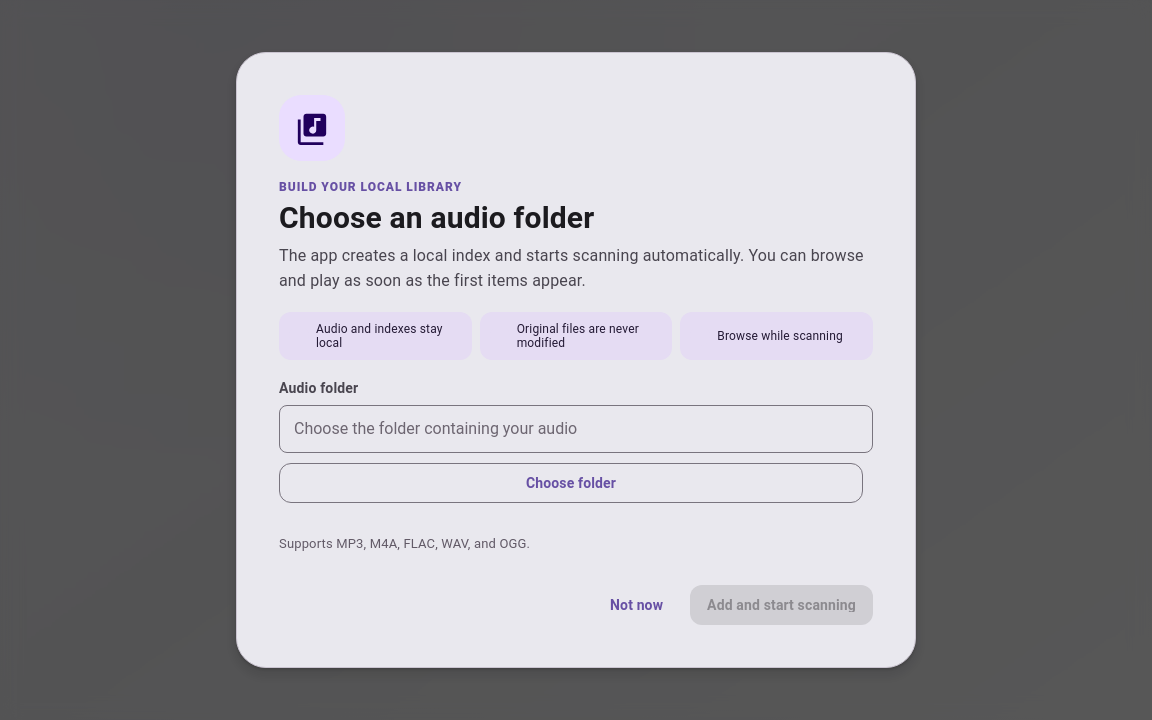
Test: OnboardingWizard › chooses a folder and starts an immediate background scan
Click the button "Choose folder" at (571, 483), box x1=279 y1=463 x2=863 y2=503
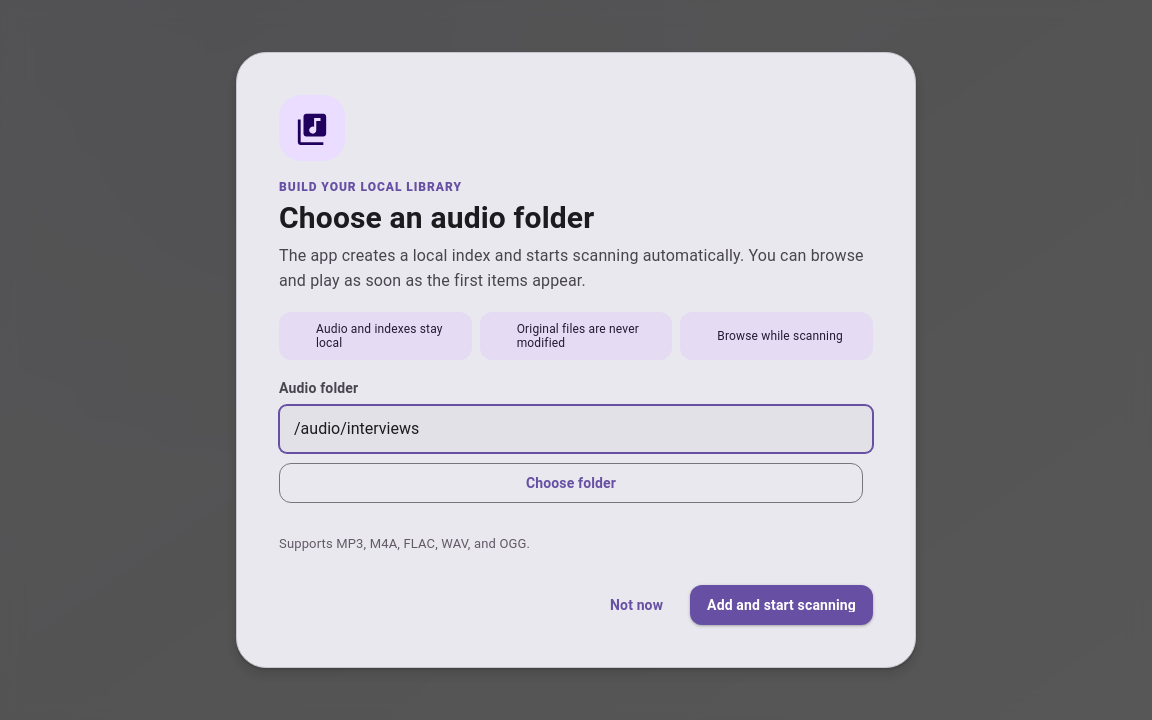
Expected: the field labelled "Audio folder" holds "/audio/interviews", x1=279 y1=405 x2=873 y2=453
Click the button "Add and start scanning" at (782, 606), box x1=690 y1=586 x2=873 y2=626
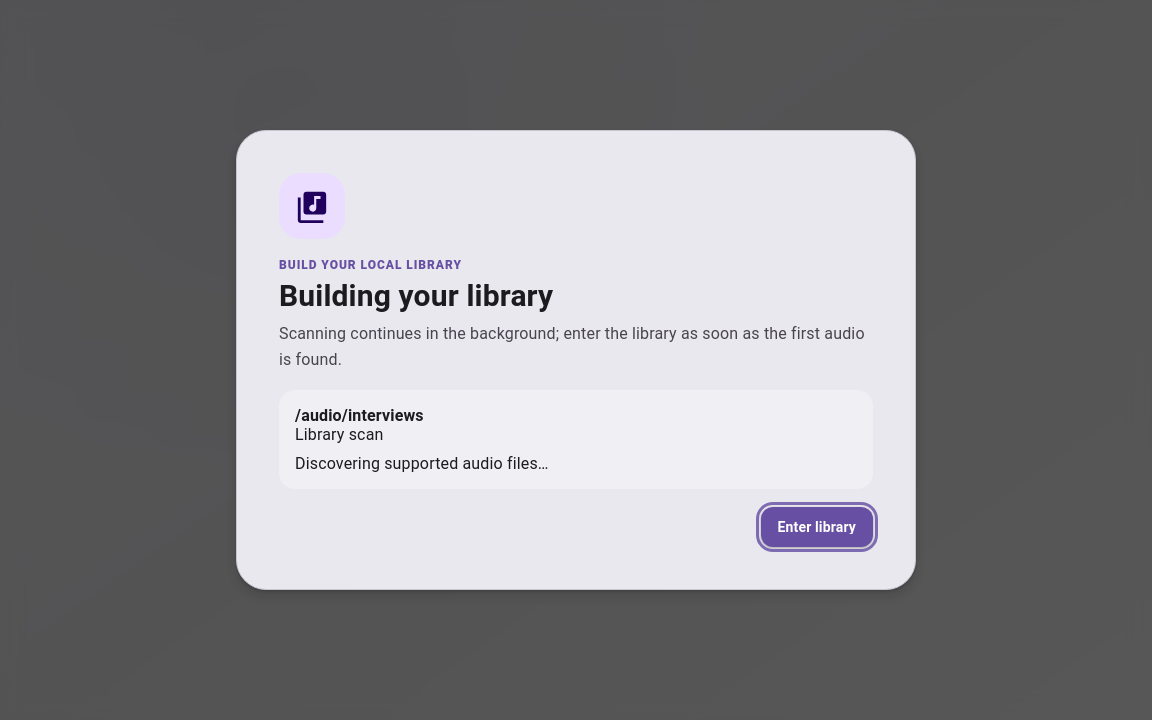
Expected: the text "/audio/interviews" is shown, x1=295 y1=406 x2=424 y2=425
